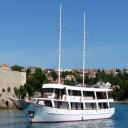cruises: (17, 79, 117, 126)
